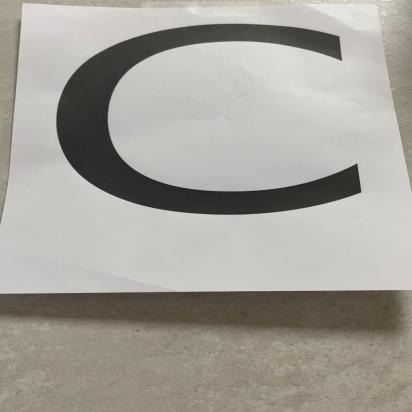seat: (2, 2, 403, 288)
